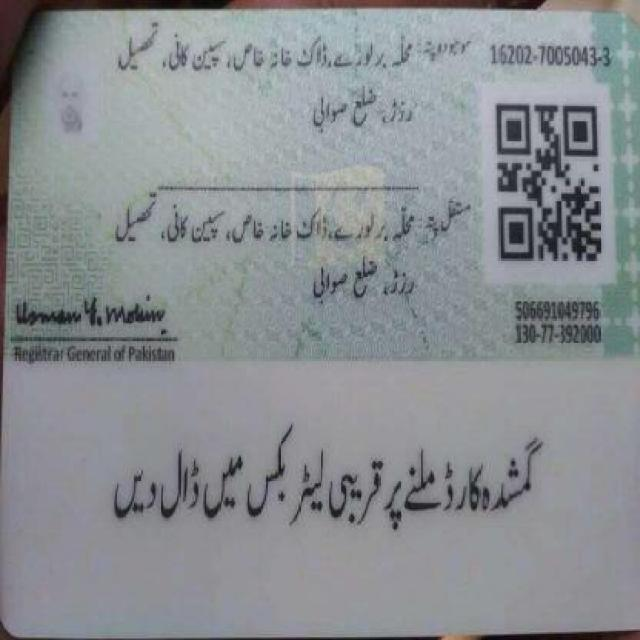Back: (9, 14, 631, 623)
